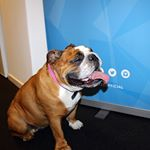puppy: (5, 39, 112, 148)
